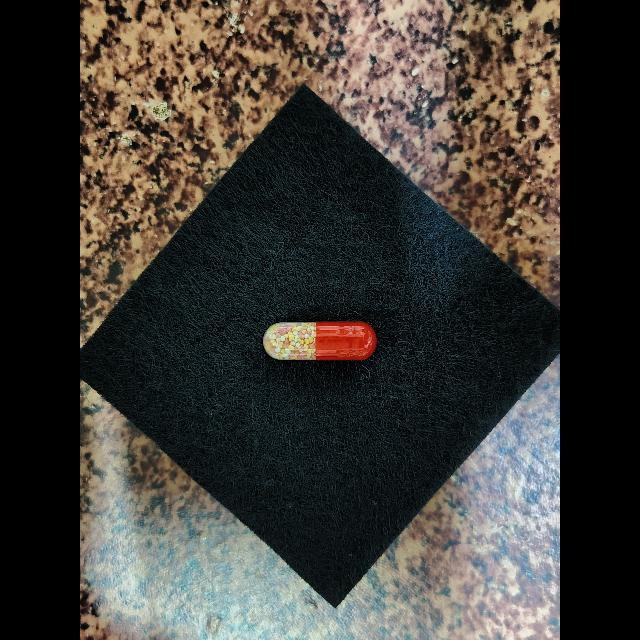Intact Capsule: (263, 321, 377, 360)
